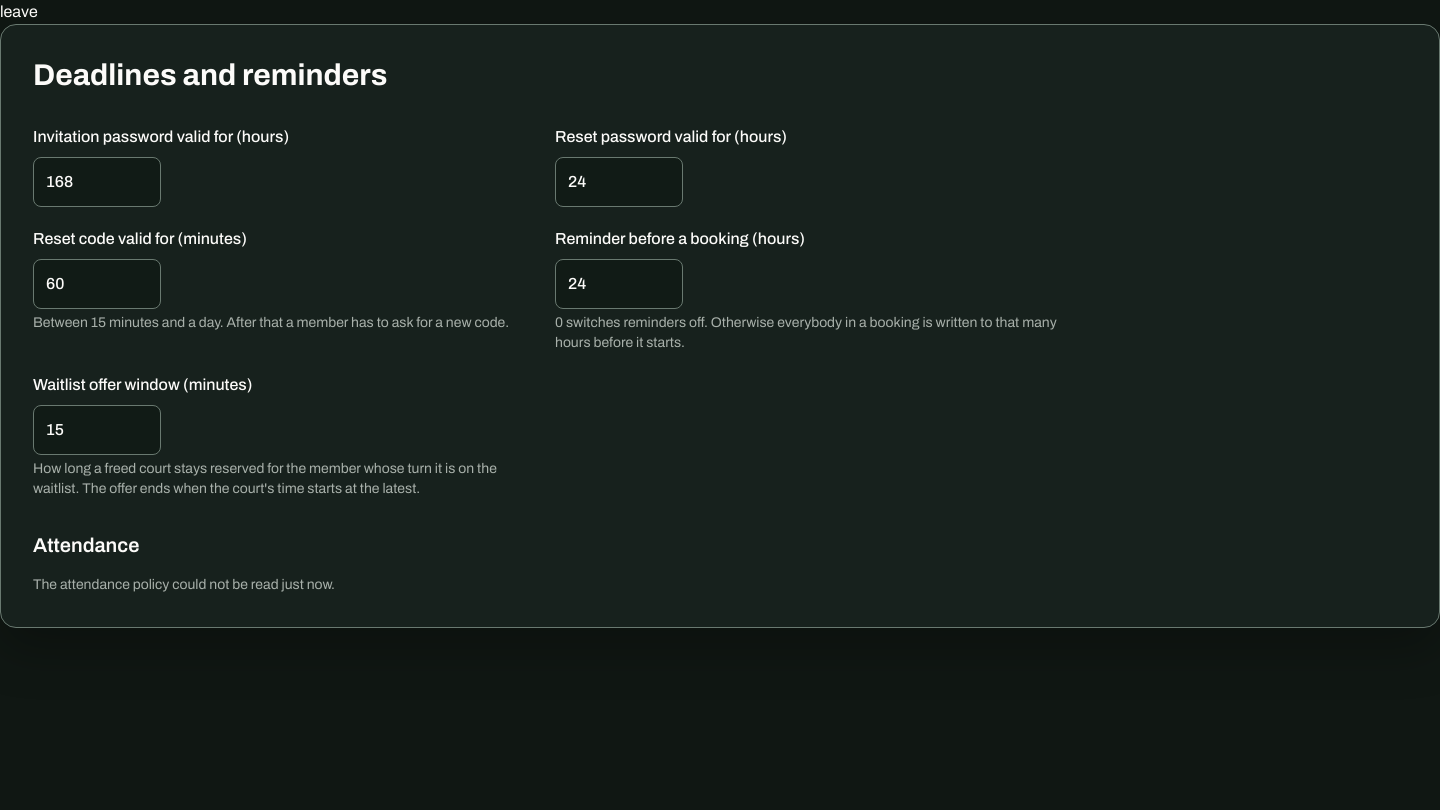
Scenario: leaving an administrative page with unsaved work › given an edit on the deadlines page, when another page is opened, then the page asks first
The image size is (1440, 810).
Type "0" into the number field with test id "booking-reminder-hours".
click(619, 284); type("0")  # box left=555, top=259, right=683, bottom=309
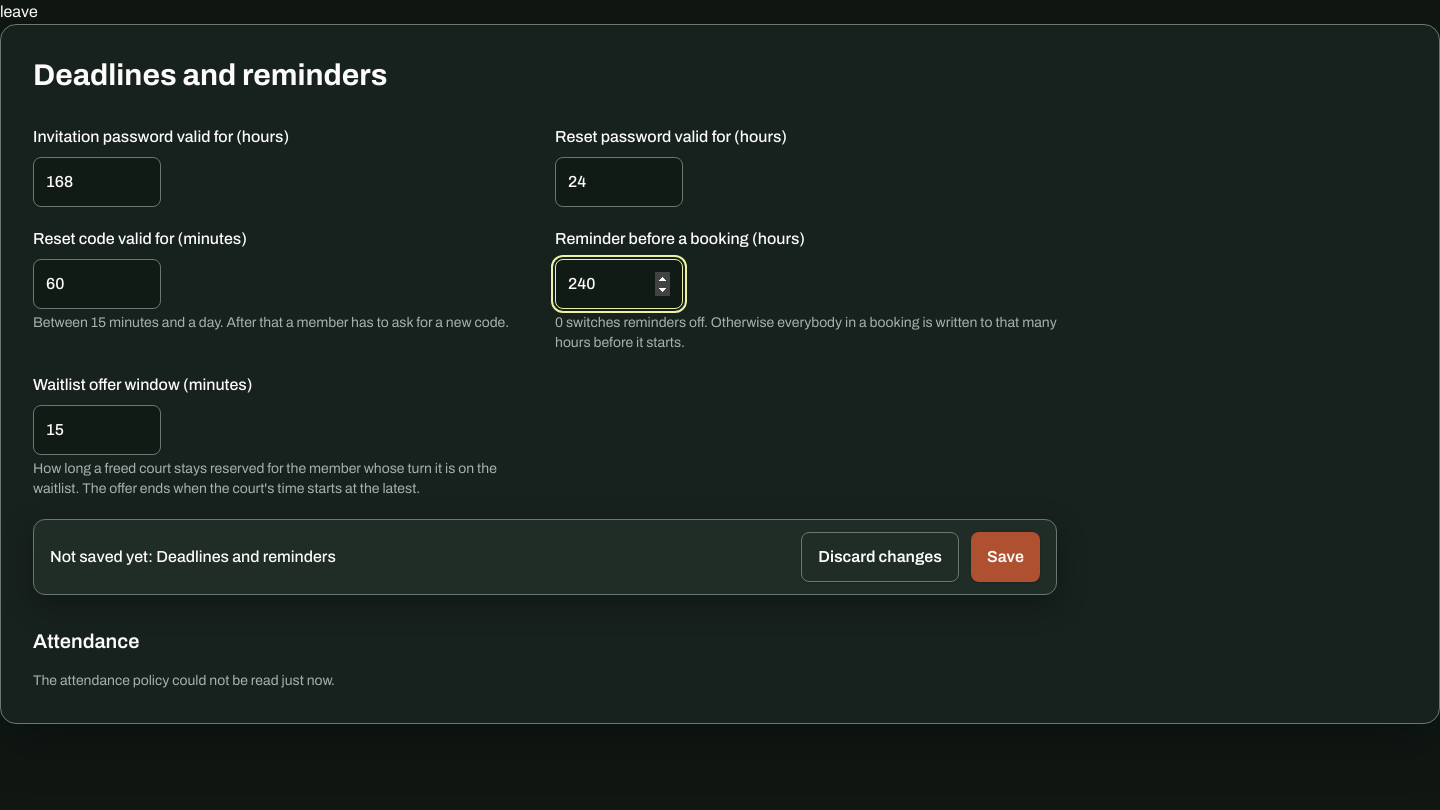
Result: the element with test id "save-bar" is shown at left=33, top=519, right=1057, bottom=595
Click the link with test id "leave".
click(19, 12)  # box left=0, top=3, right=38, bottom=20
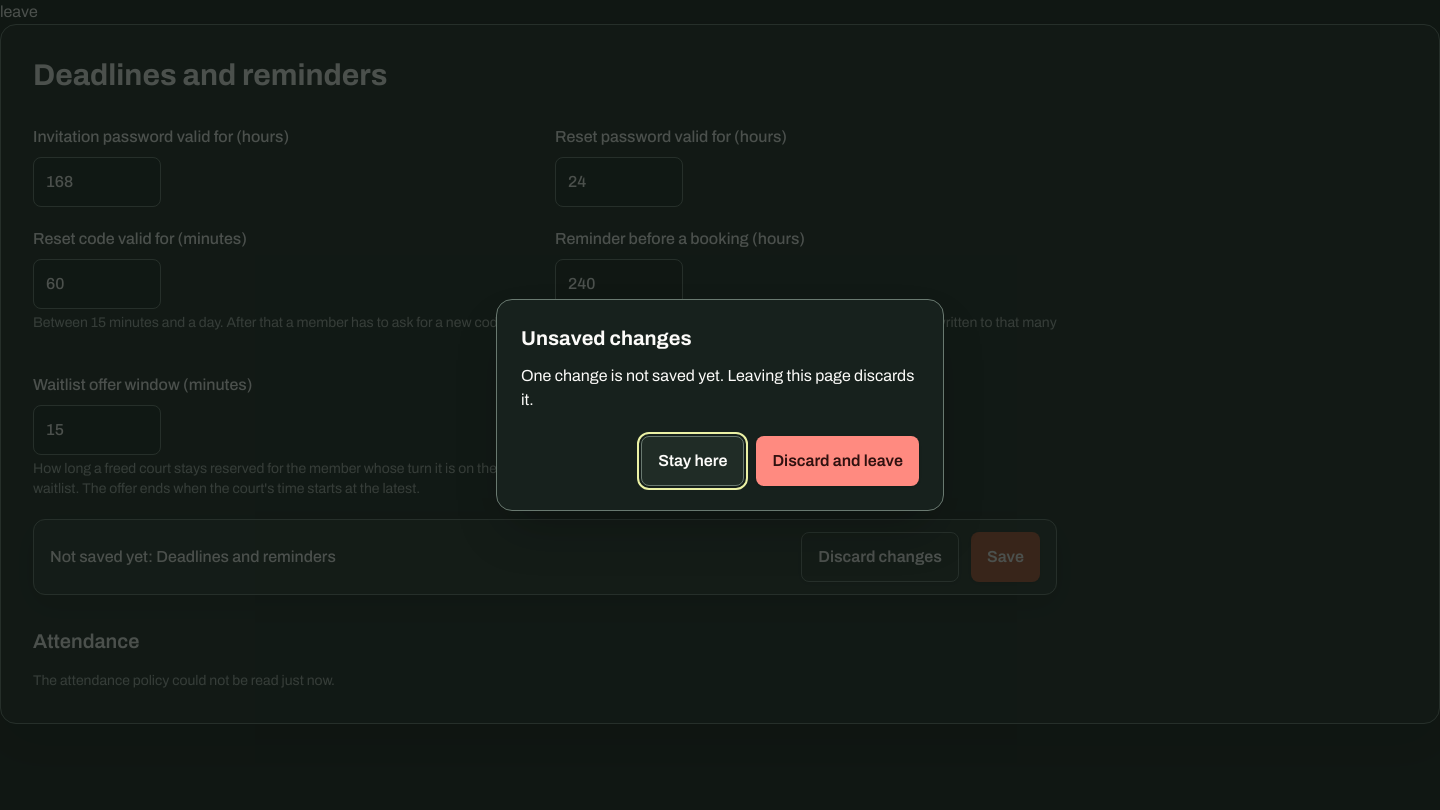
Result: the dialog with test id "unsaved-changes" is shown at left=496, top=299, right=944, bottom=511
